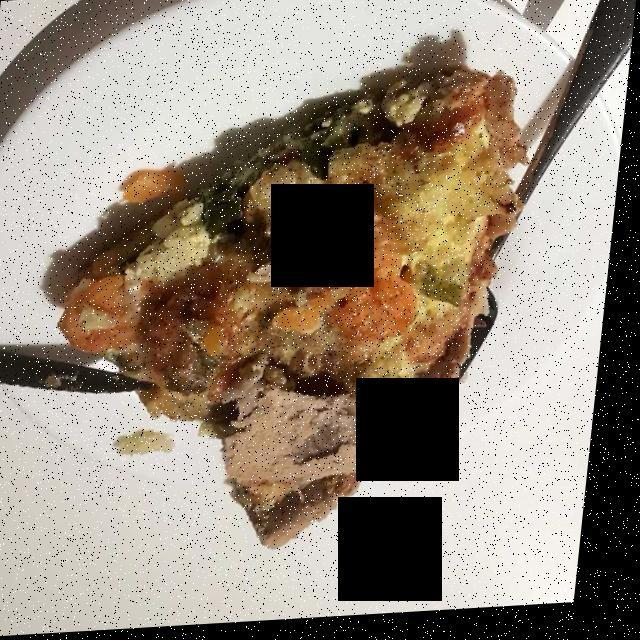vegetables-stuffed-pie: (73, 79, 525, 539)
